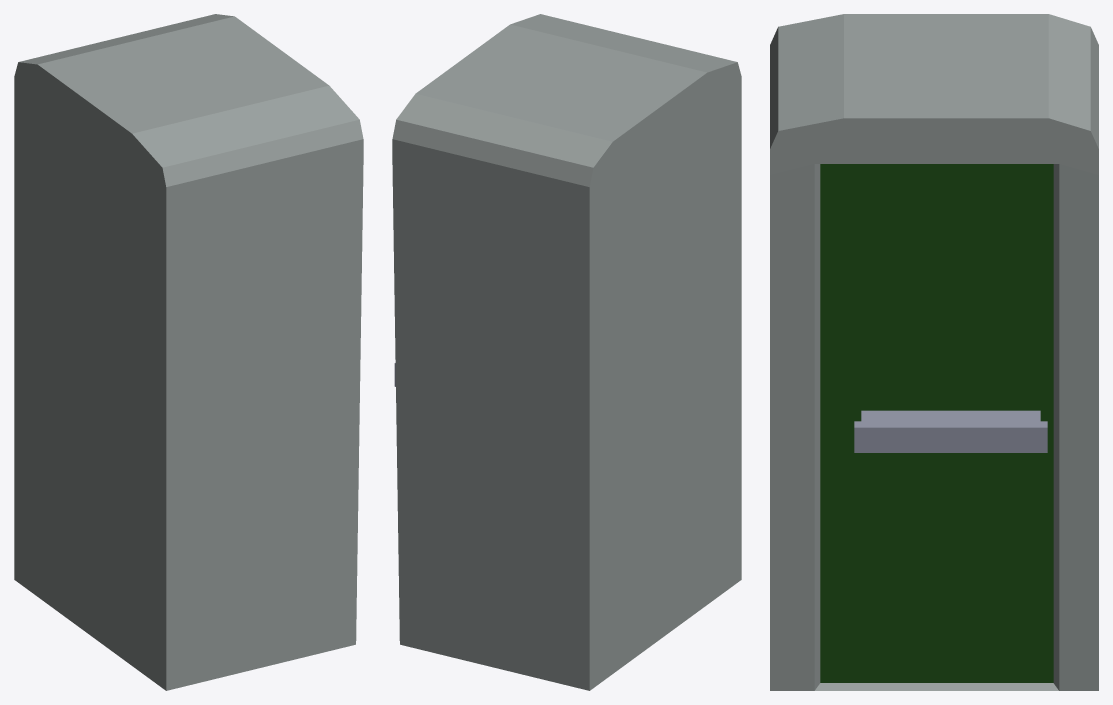
The model's file is Door.fbx.
3 renders of one model, left to right at view 1: azimuth 30°, elevation 25°; view 2: azimuth 150°, elevation 25°; view 3: azimuth 270°, elevation 25°, orthographic. The views are drawn at different scales.
Visible parts, largest first — view 1: Door2; view 2: Door2; view 3: Door2.
Boxes of the visible parts, x1,y1,x2,y2 form: Door2: (14, 14, 363, 690); Door2: (392, 14, 741, 690); Door2: (770, 14, 1098, 690).
Bounding box in the file's own units: 134 × 313 × 162.
